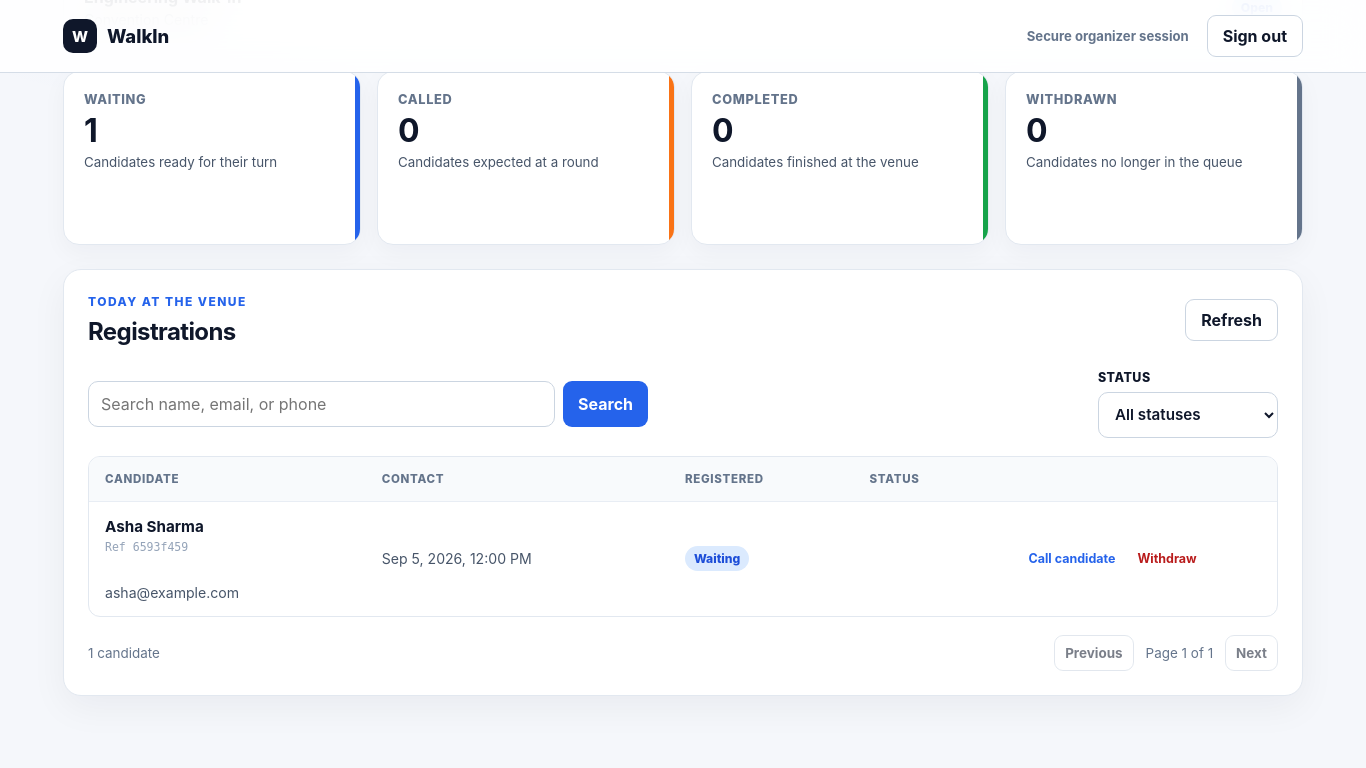
Test: OrganizerDashboard › updates a candidate and refreshes queue data
(page scrolled)
Expected: the text "Asha Sharma" is shown, [105, 517, 204, 536]
Click the button "Call candidate".
click(1072, 559)  # box [1020, 544, 1124, 574]
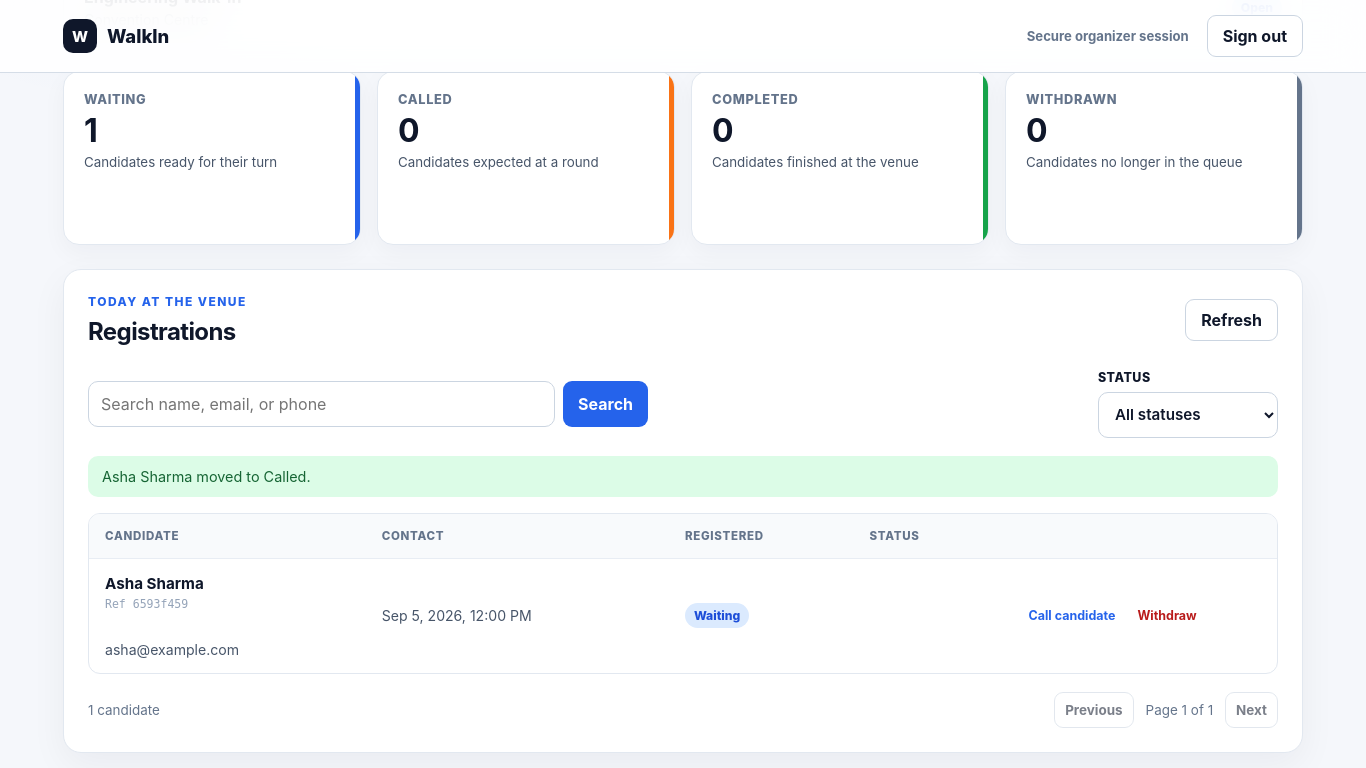
Expected: the text "Asha Sharma moved to Called." is shown, [88, 456, 1278, 497]
